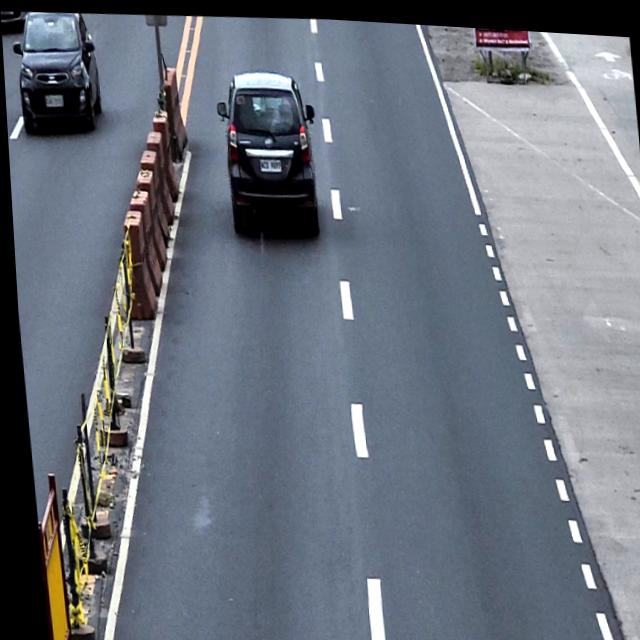Car: (211, 63, 323, 237), (8, 8, 103, 137)
License-Plate: (256, 154, 280, 170), (43, 92, 62, 108)
